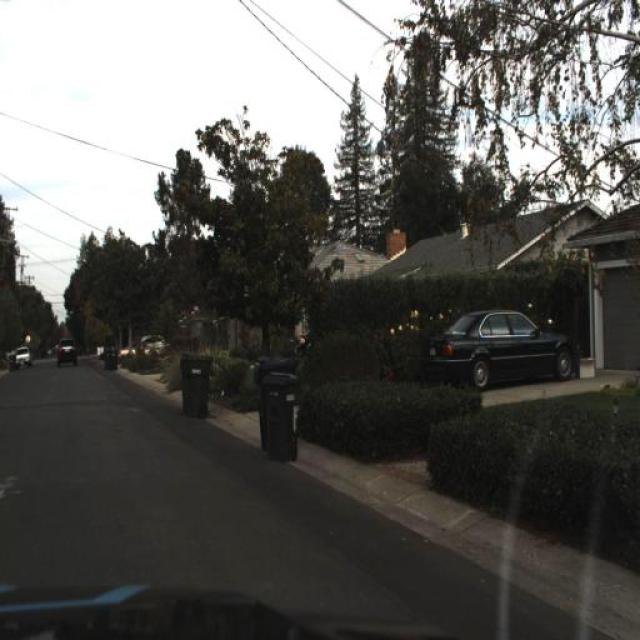car: (426, 308, 580, 392), (115, 336, 161, 376), (290, 310, 318, 365), (10, 338, 36, 372), (140, 326, 170, 354), (56, 336, 79, 368)
